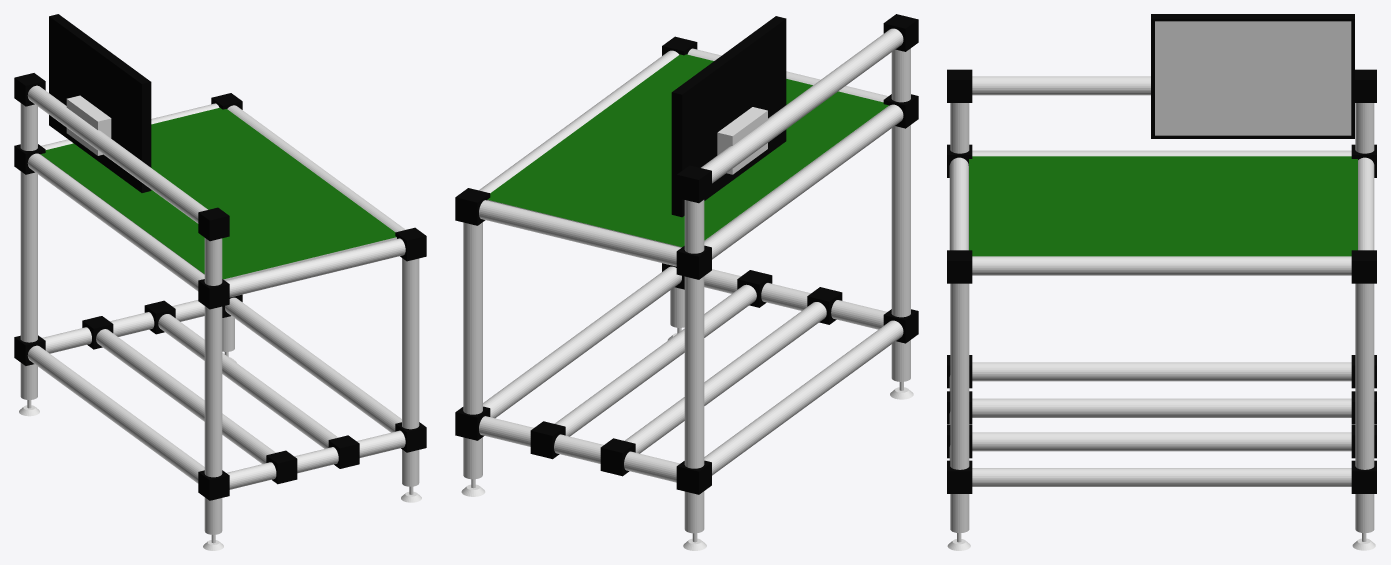
Rendered from operator-table.glb.
3 renders of one model, left to right at view 1: azimuth 30°, elevation 25°; view 2: azimuth 150°, elevation 25°; view 3: azimuth 270°, elevation 25°, orthographic. The views are drawn at different scales.
Visible parts, largest first — view 1: Cylinder.041, Cylinder.175, Cylinder.003, Cylinder.024, Cylinder.015, Cylinder.016, Cylinder.031, Cylinder.008, Cylinder.002, Cylinder.025, Cylinder.023, Cylinder.010 (+18 smaller); view 2: Cylinder.041, Cylinder.175, Cylinder.002, Cylinder.024, Cylinder.015, Cylinder.016, Cylinder.031, Cylinder.007, Cylinder.003, Cylinder.025, Cylinder.023, Cylinder.009 (+20 smaller); view 3: Cylinder.041, Cylinder.175, Cylinder.004, Cylinder.015, Cylinder.023, Cylinder.025, Cylinder.016, Cylinder.007, Cylinder.008, Cylinder.031, Cylinder.024, Cylinder.010 (+9 smaller).
Boxes of the visible parts, left/top/right/bottom form: Cylinder.041: left=40, top=107, right=396, bottom=280; Cylinder.175: left=49, top=14, right=151, bottom=192; Cylinder.003: left=204, top=306, right=222, bottom=534; Cylinder.024: left=27, top=153, right=204, bottom=291; Cylinder.015: left=27, top=345, right=204, bottom=483; Cylinder.016: left=225, top=297, right=401, bottom=432; Cylinder.031: left=27, top=85, right=207, bottom=223; Cylinder.008: left=402, top=258, right=419, bottom=486; Cylinder.002: left=20, top=171, right=37, bottom=399; Cylinder.025: left=96, top=329, right=275, bottom=463; Cylinder.023: left=158, top=314, right=337, bottom=448; Cylinder.010: left=226, top=238, right=405, bottom=297; Cylinder.041: left=487, top=54, right=889, bottom=247; Cylinder.175: left=671, top=16, right=786, bottom=217; Cylinder.002: left=684, top=276, right=704, bottom=533; Cylinder.024: left=704, top=104, right=903, bottom=259; Cylinder.015: left=704, top=320, right=903, bottom=475; Cylinder.016: left=483, top=266, right=681, bottom=418; Cylinder.031: left=701, top=28, right=903, bottom=183; Cylinder.007: left=463, top=222, right=482, bottom=479; Cylinder.003: left=891, top=125, right=910, bottom=381; Cylinder.025: left=624, top=302, right=826, bottom=453; Cylinder.023: left=554, top=284, right=756, bottom=436; Cylinder.009: left=479, top=200, right=680, bottom=266; Cylinder.041: left=969, top=156, right=1357, bottom=256; Cylinder.175: left=1151, top=14, right=1354, bottom=138; Cylinder.004: left=972, top=256, right=1351, bottom=275; Cylinder.015: left=972, top=362, right=1351, bottom=381; Cylinder.023: left=972, top=432, right=1351, bottom=451; Cylinder.025: left=972, top=398, right=1351, bottom=417; Cylinder.016: left=972, top=468, right=1351, bottom=486; Cylinder.007: left=1355, top=283, right=1374, bottom=532; Cylinder.008: left=950, top=283, right=969, bottom=532; Cylinder.031: left=972, top=76, right=1150, bottom=95; Cylinder.024: left=972, top=150, right=1351, bottom=156; Cylinder.010: left=949, top=157, right=968, bottom=250.
Size of the model in its own units: 2.1 by 3.66 by 3.28.
